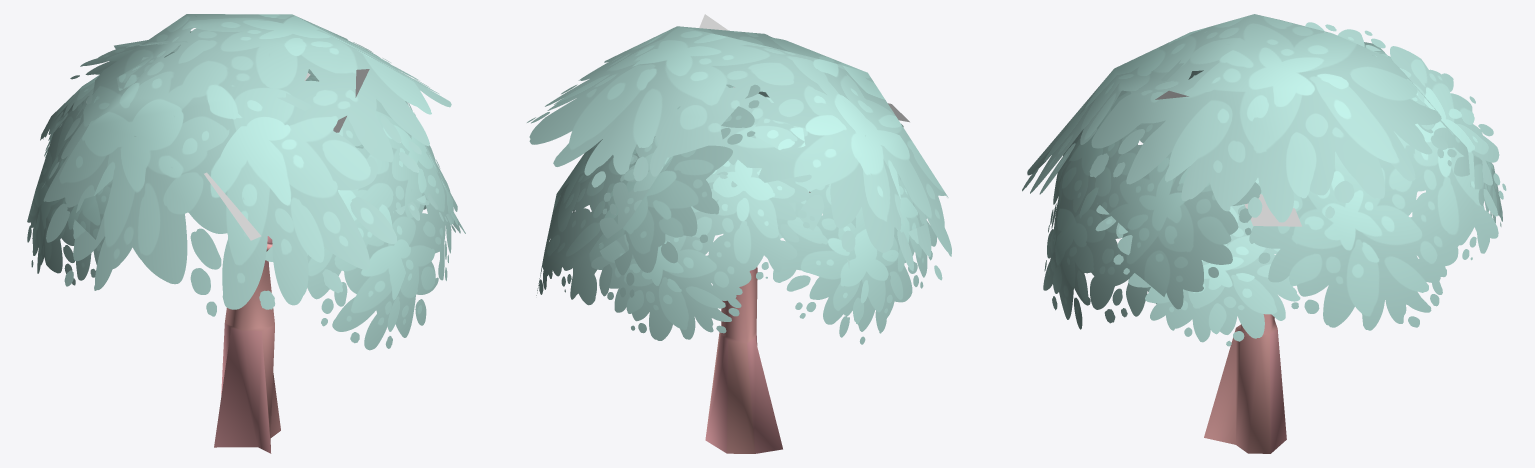
The model's file is tree.fbx.
3 renders of one model, left to right at view 1: azimuth 30°, elevation 25°; view 2: azimuth 150°, elevation 25°; view 3: azimuth 270°, elevation 25°, orthographic. The views are drawn at different scales.
Visible parts, largest first — view 1: folliage.004, solidified_skined_trunk; view 2: folliage.004, solidified_skined_trunk; view 3: folliage.004, solidified_skined_trunk.
Boxes of the visible parts, x1=… form: folliage.004: x1=27, y1=14, x2=465, y2=350; solidified_skined_trunk: x1=214, y1=236, x2=280, y2=453; folliage.004: x1=527, y1=14, x2=951, y2=344; solidified_skined_trunk: x1=705, y1=191, x2=810, y2=453; folliage.004: x1=1022, y1=14, x2=1506, y2=346; solidified_skined_trunk: x1=1204, y1=314, x2=1286, y2=453.
Bounding box in the file's own units: 1078 × 1019 × 1166.
